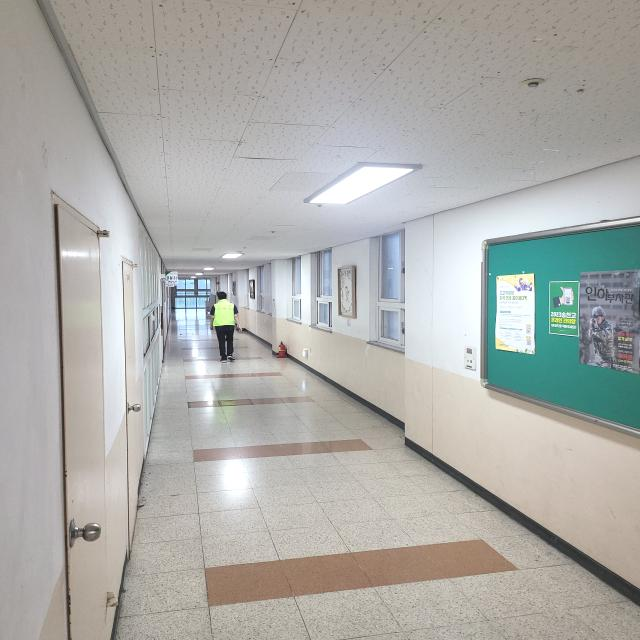weston_spy: (208, 291, 247, 334)
